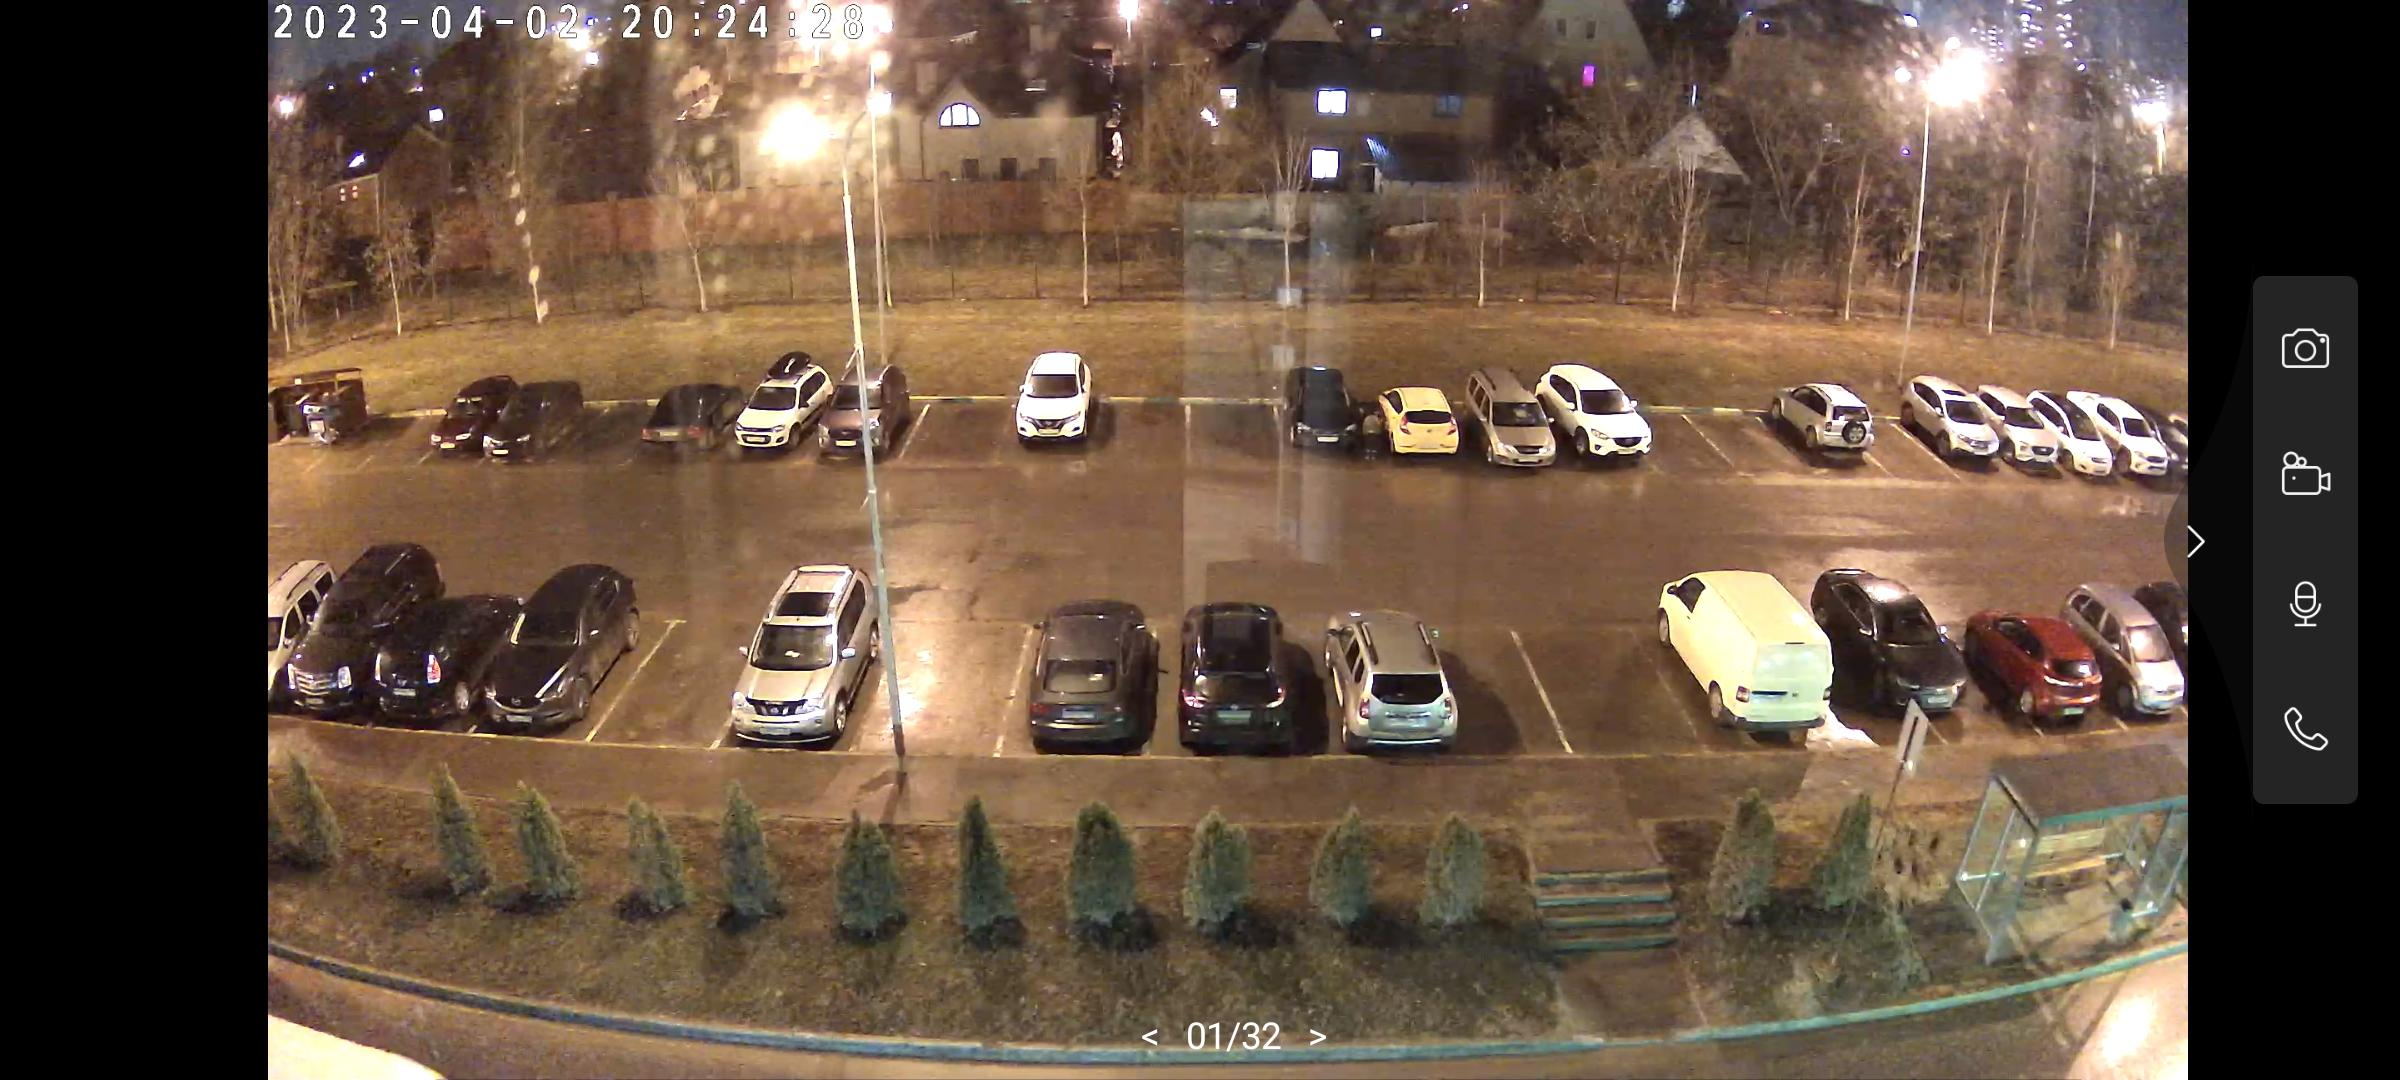empty: (464, 564, 658, 734), (1655, 569, 1847, 734), (713, 571, 880, 759), (288, 534, 441, 725), (1808, 558, 1982, 714), (375, 561, 519, 728), (1015, 606, 1160, 759), (1169, 597, 1309, 754), (1326, 635, 1486, 756), (1979, 609, 2108, 731), (1520, 363, 1661, 465), (990, 347, 1123, 447), (2097, 592, 2192, 730), (730, 359, 859, 454), (1892, 375, 2019, 464), (1347, 378, 1474, 467), (2071, 390, 2187, 479), (2014, 387, 2123, 482), (1765, 379, 1887, 464), (1278, 353, 1364, 460), (490, 373, 580, 470), (643, 378, 742, 457), (439, 373, 519, 464), (827, 375, 912, 454)
occupied: (869, 616, 1007, 763), (634, 598, 745, 743), (1557, 618, 1679, 750), (1433, 627, 1523, 737), (1851, 396, 1936, 482), (1202, 373, 1275, 473), (1110, 375, 1188, 468), (577, 392, 644, 470), (914, 399, 995, 456), (1659, 419, 1734, 467), (1719, 407, 1774, 471), (398, 412, 439, 464), (346, 412, 387, 453)
